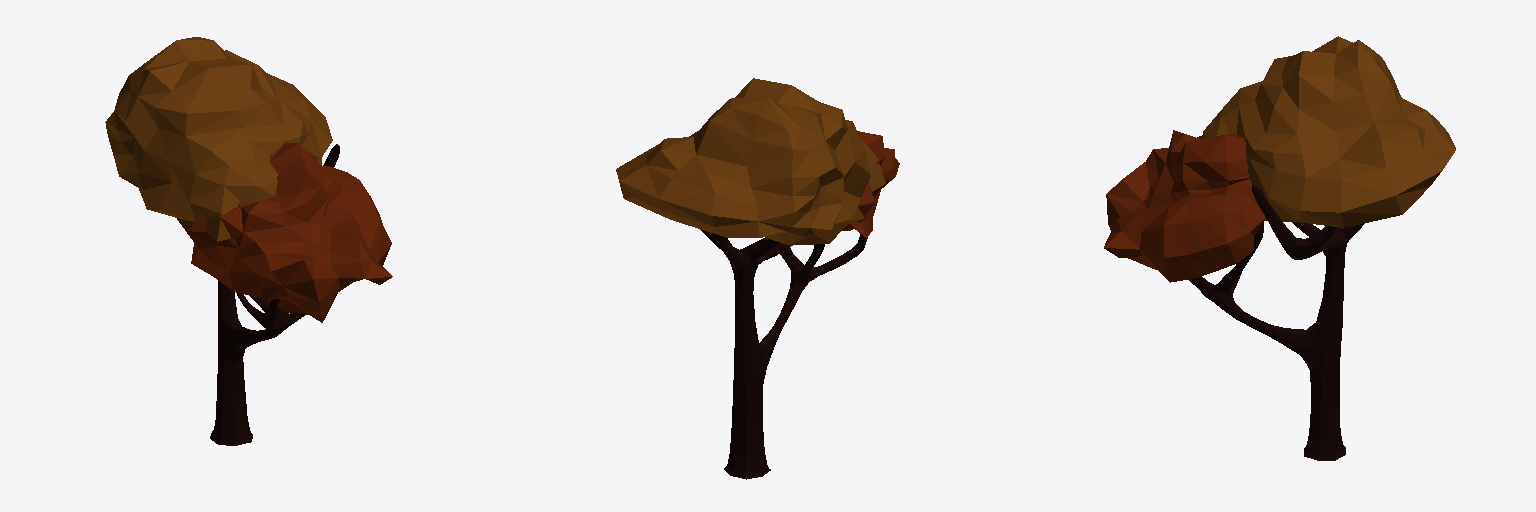
Rendered from CommonTree_Autumn_2_Cube.obj.
The picture shows the model from 3 angles: view 1: azimuth 30°, elevation 25°; view 2: azimuth 150°, elevation 25°; view 3: azimuth 270°, elevation 25°; orthographic projection.
Visible parts, largest first — view 1: CommonTree_Autumn_2_Cube.090; view 2: CommonTree_Autumn_2_Cube.090; view 3: CommonTree_Autumn_2_Cube.090.
Part boxes in pixels (bbox=[...]): CommonTree_Autumn_2_Cube.090: bbox=[105, 37, 392, 445]; CommonTree_Autumn_2_Cube.090: bbox=[616, 78, 899, 479]; CommonTree_Autumn_2_Cube.090: bbox=[1104, 36, 1455, 460].
Bounding box in the file's own units: 1.66 × 3.12 × 2.54.